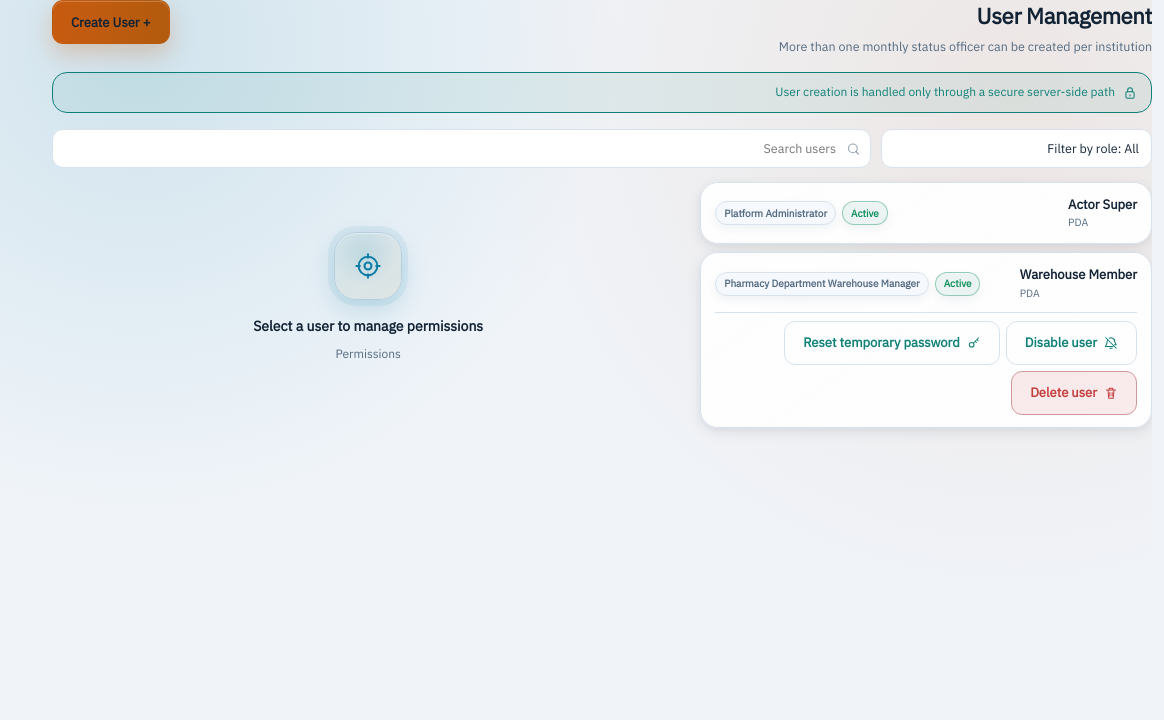
Scenario: P1 — the matrix saves the explicit choice and it survives reload and reopen › an explicit deny survives save → reload → reopen when the client fallback says false but the database default is true
Click the text "Warehouse Member". click: (1078, 276)
box: [1020,266,1137,286]
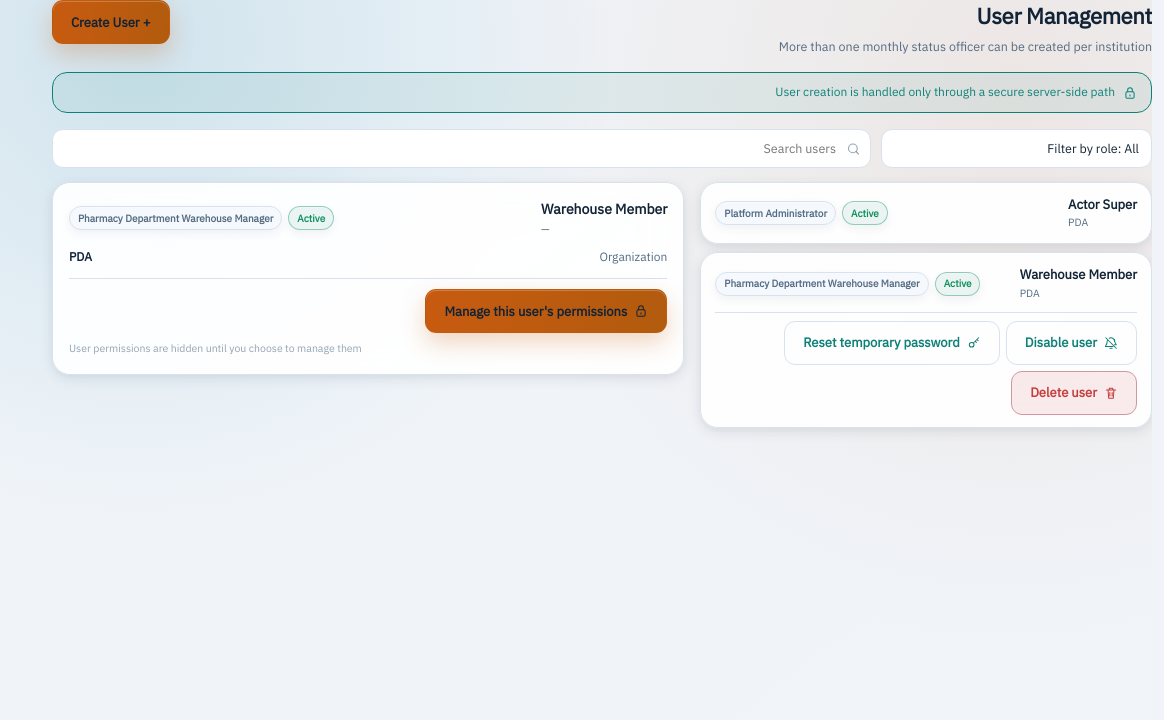
Click the button "Manage this user's permissions". click: (546, 311)
box: [426,289,667,333]
(page scrolled)
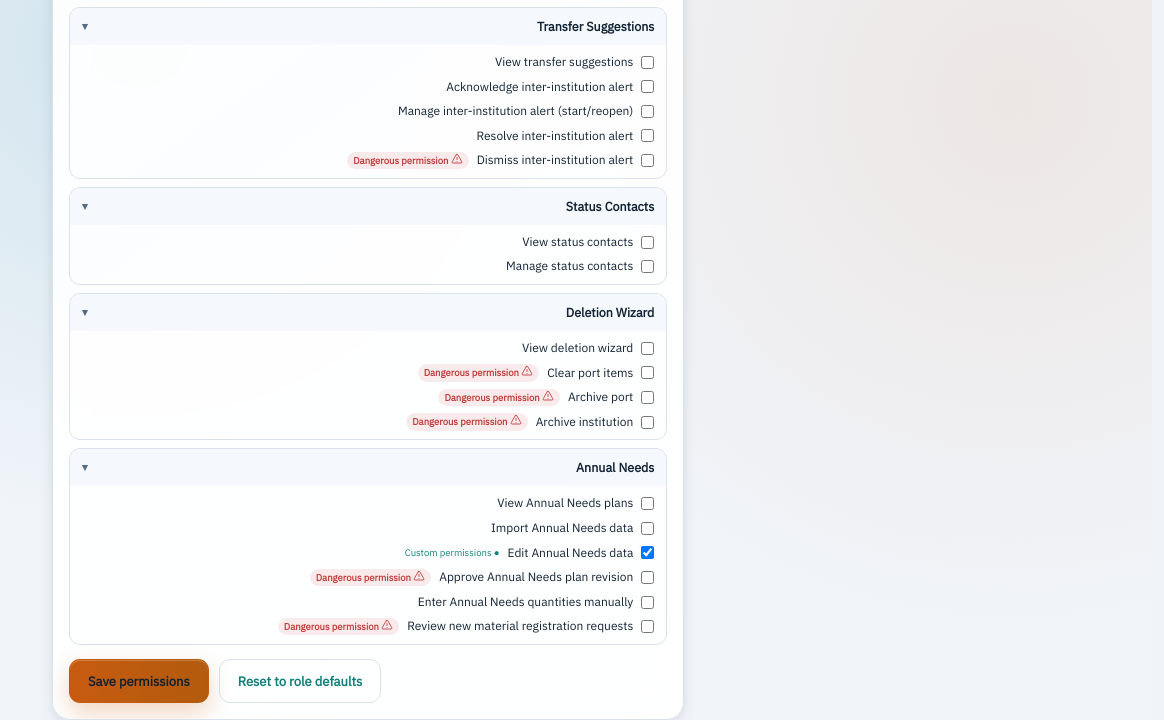
Expected: the text "View Annual Needs plans" is shown, [497,494,633,513]
Expected: the checkbox labelled "Edit Annual Needs data ● Custom permissions" is checked
Click the checkbox labelled "Edit Annual Needs data ● Custom permissions". click: (648, 553)
box: [641,546,654,559]
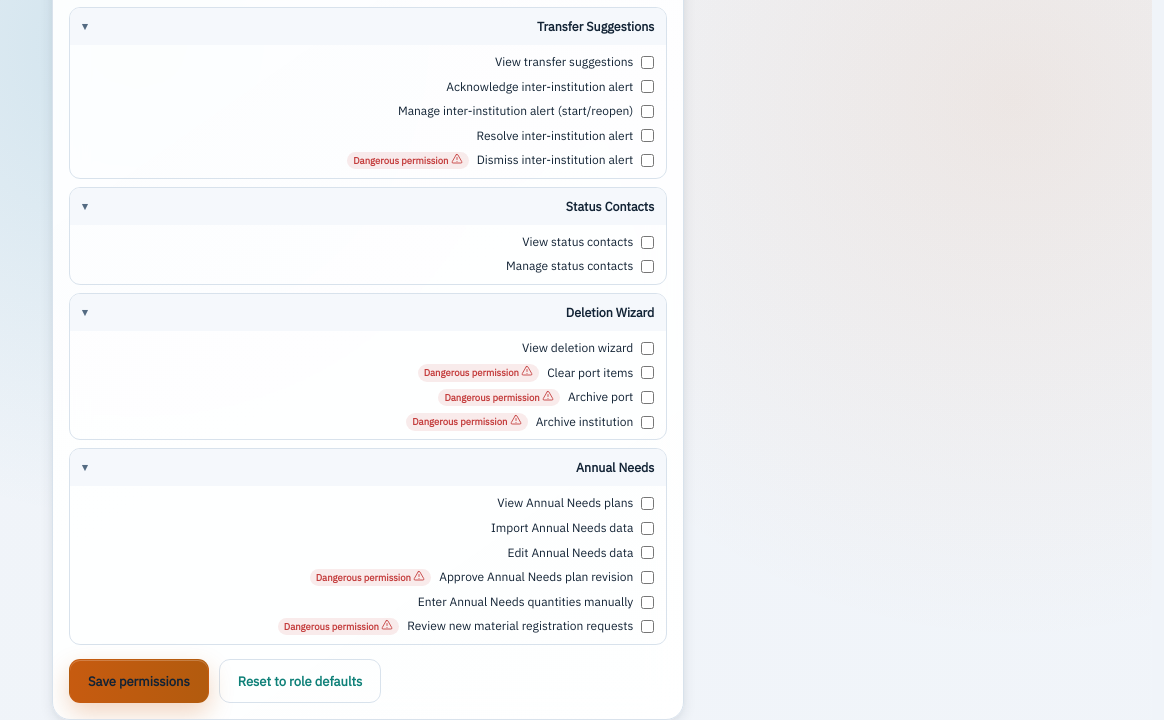
Click the button "Save permissions". click: (139, 681)
box: [69,659,209,703]
(page scrolled)
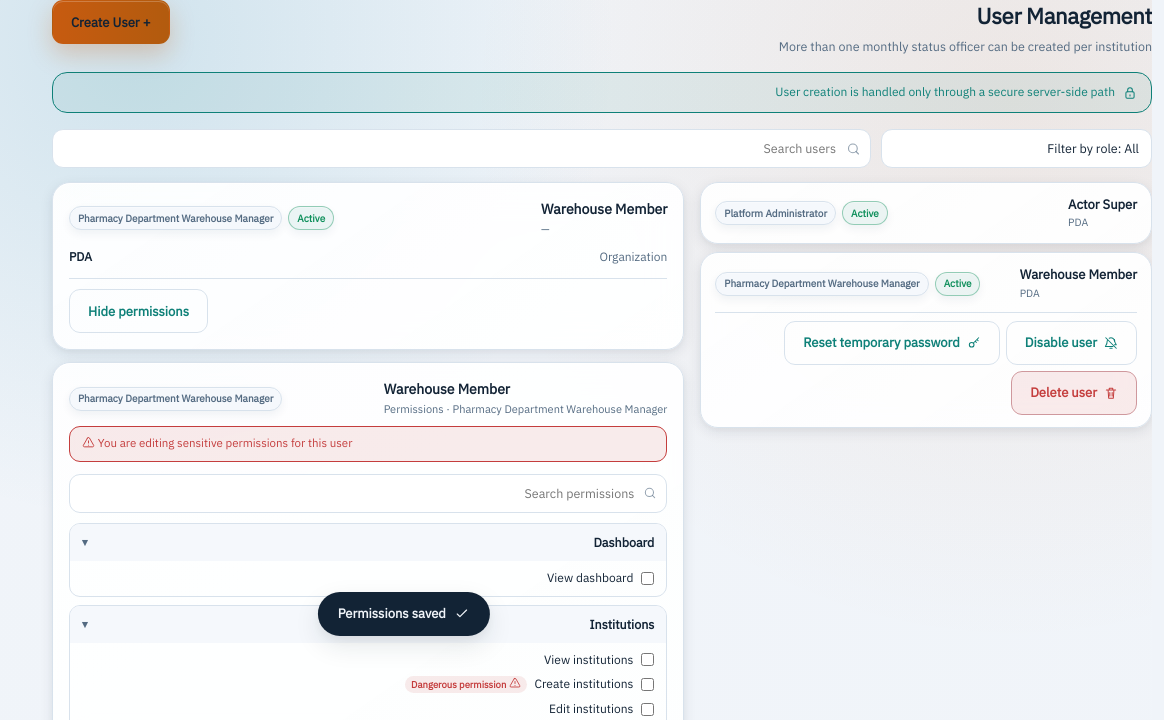
Expected: the text "Permissions saved" is shown, [338,604,446,624]
Click the button "Hide permissions". click: (139, 311)
box: [69,289,208,333]
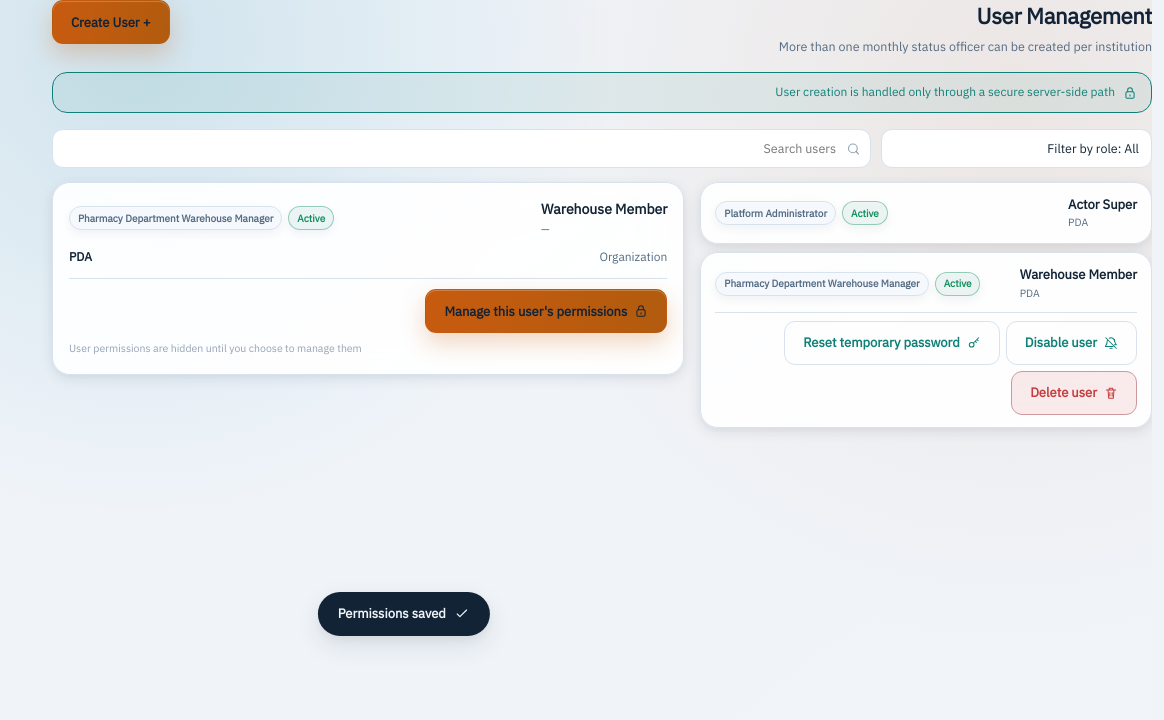
Click the button "Manage this user's permissions". click: (546, 311)
box: [426,289,667,333]
(page scrolled)
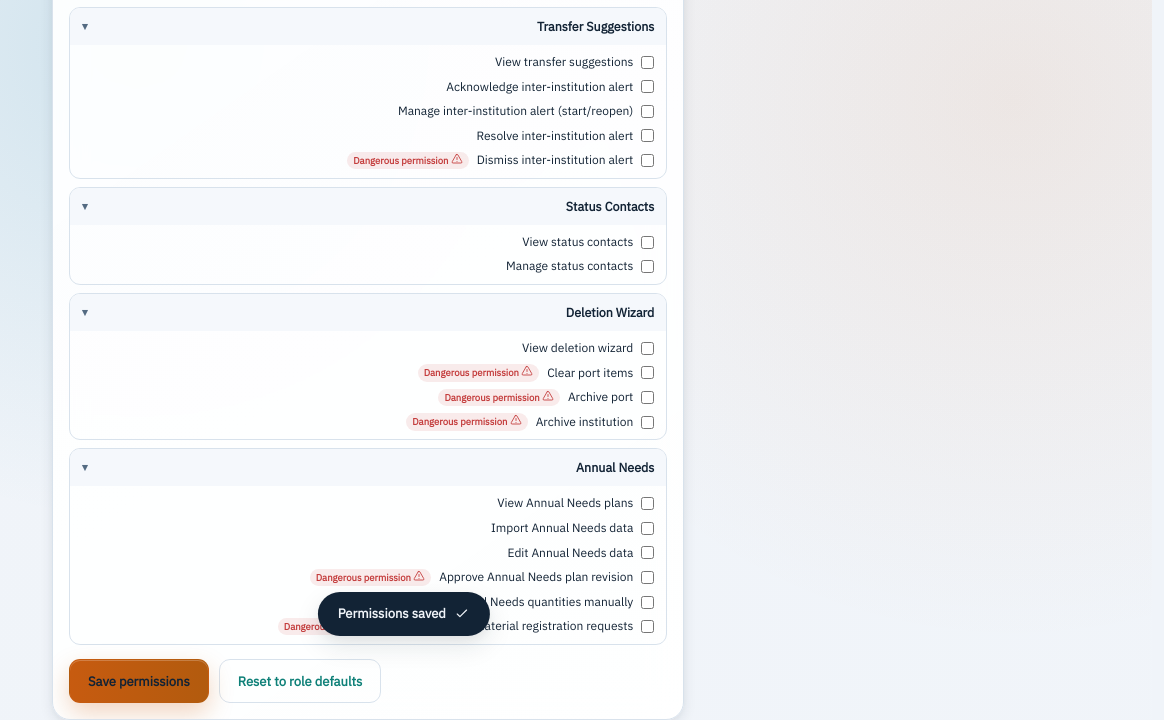
Expected: the text "View Annual Needs plans" is shown, [497,494,633,513]
Expected: the checkbox labelled "Edit Annual Needs data" is not checked, [641,546,654,559]
